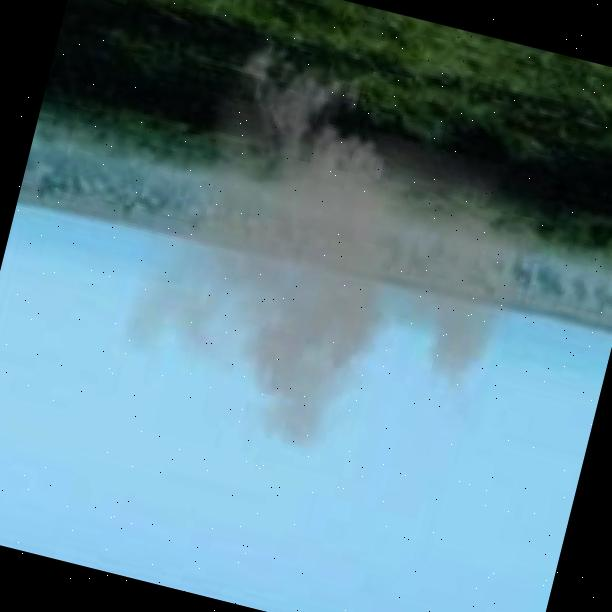smoke: (100, 11, 575, 513)
